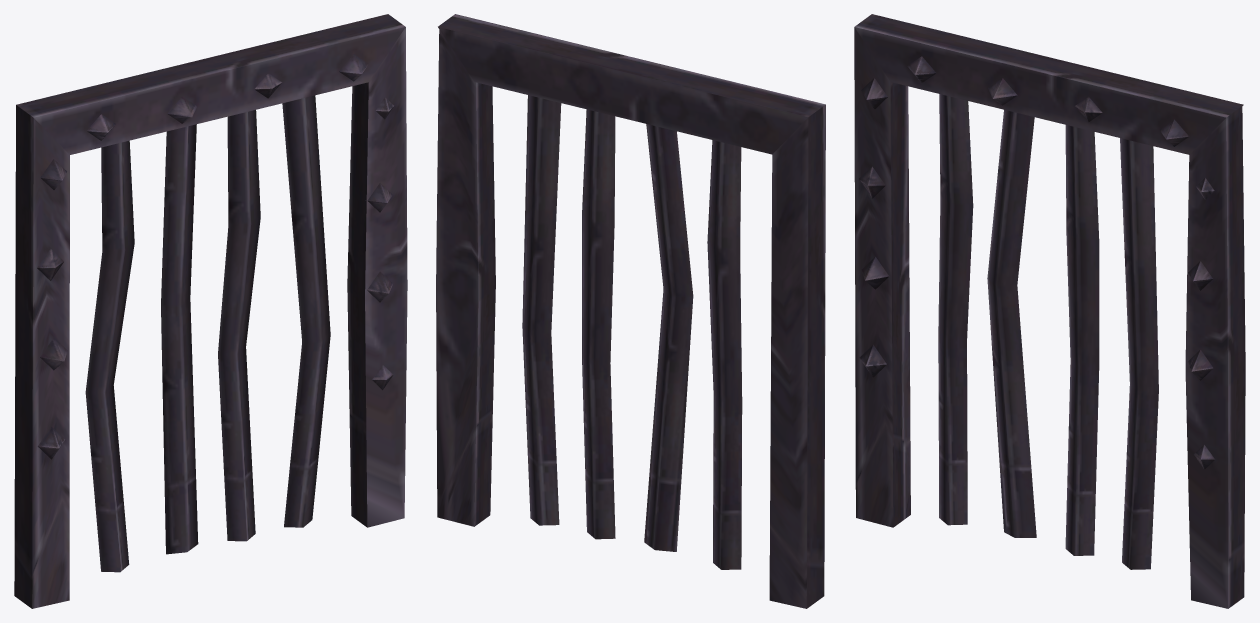
The model's file is lava_wallgrate_01.fbx.
3 renders of one model, left to right at view 1: azimuth 30°, elevation 25°; view 2: azimuth 150°, elevation 25°; view 3: azimuth 330°, elevation 25°, orthographic.
Visible parts, largest first — view 1: lava_floorgrate_01_shadows; view 2: lava_floorgrate_01_shadows; view 3: lava_floorgrate_01_shadows.
Boxes of the visible parts, x1=… form: lava_floorgrate_01_shadows: x1=14, y1=14, x2=407, y2=608; lava_floorgrate_01_shadows: x1=436, y1=14, x2=825, y2=608; lava_floorgrate_01_shadows: x1=854, y1=14, x2=1245, y2=608.
Bounding box in the file's own units: 4.03 × 5.07 × 0.5889.
